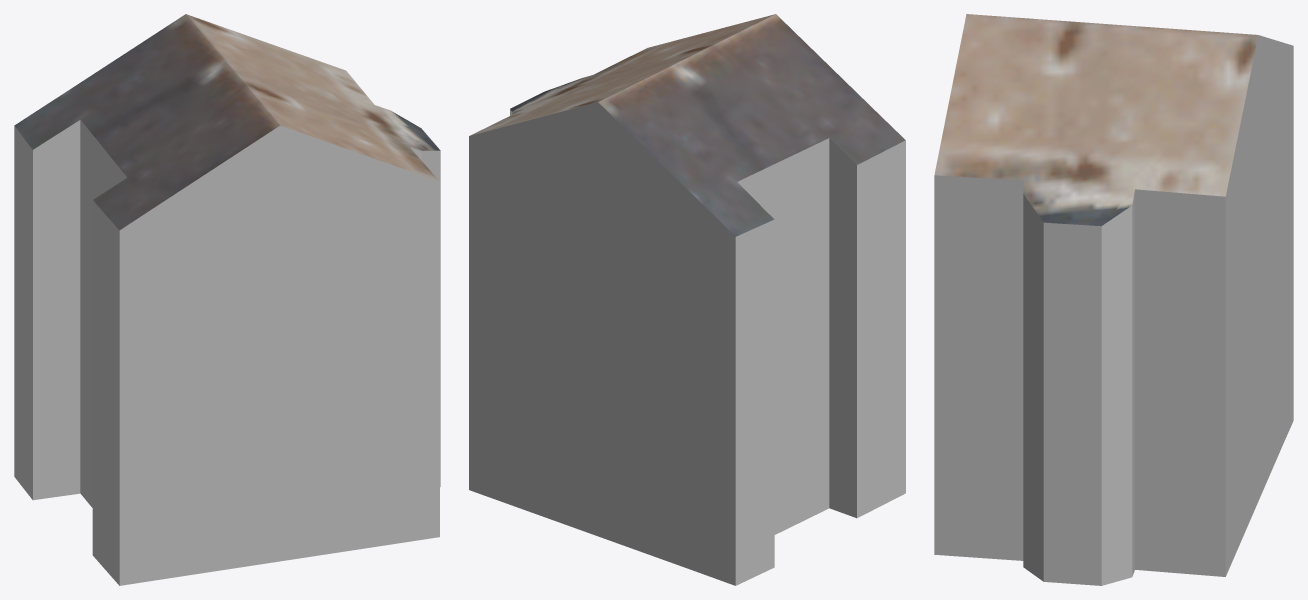
File: DEBW_0010007Txaw.gltf
3 views of the same model, side by side, from view 1: azimuth 30°, elevation 25°; view 2: azimuth 150°, elevation 25°; view 3: azimuth 270°, elevation 25° (orthographic). The views are drawn at different scales.
Visible parts, largest first — view 1: Z_UP; view 2: Z_UP; view 3: Z_UP.
Boxes of the visible parts, x1,y1,x2,y2 form: Z_UP: (14, 14, 440, 585); Z_UP: (469, 14, 905, 585); Z_UP: (934, 14, 1293, 585).
Bounding box in the file's own units: 16.03 × 19.12 × 13.34.
2 materials, 1 textured.
